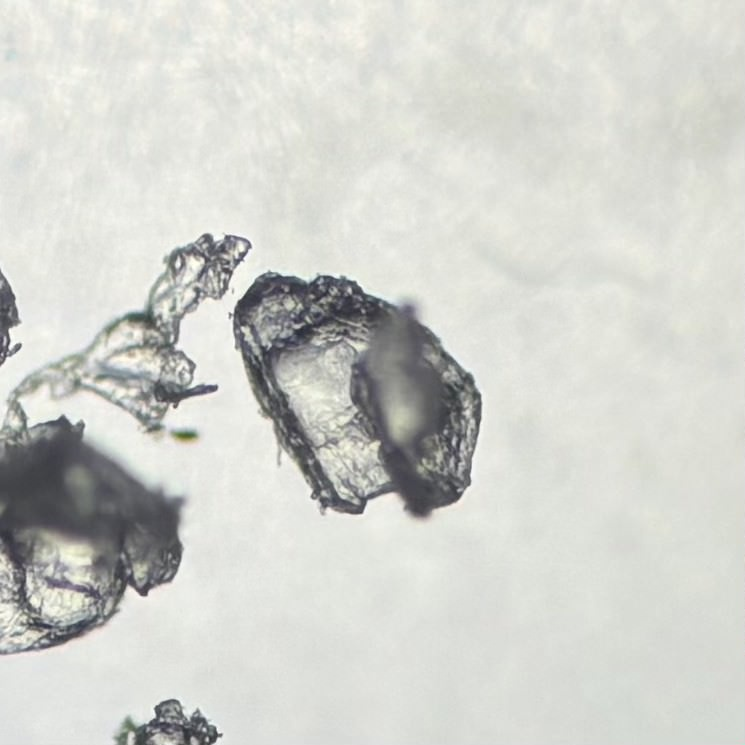microplastic: (230, 265, 483, 524), (1, 234, 253, 423), (1, 413, 188, 654), (111, 696, 223, 745)
